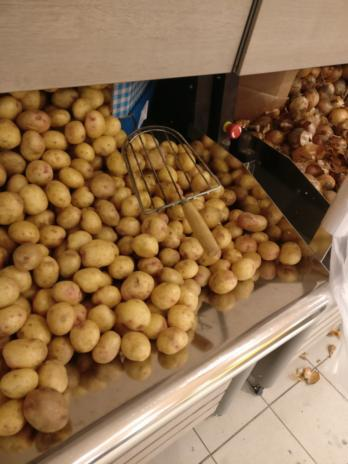Floury potato: (72, 89, 157, 362), (0, 95, 68, 432), (155, 132, 202, 358), (204, 147, 251, 303), (254, 207, 309, 268)
